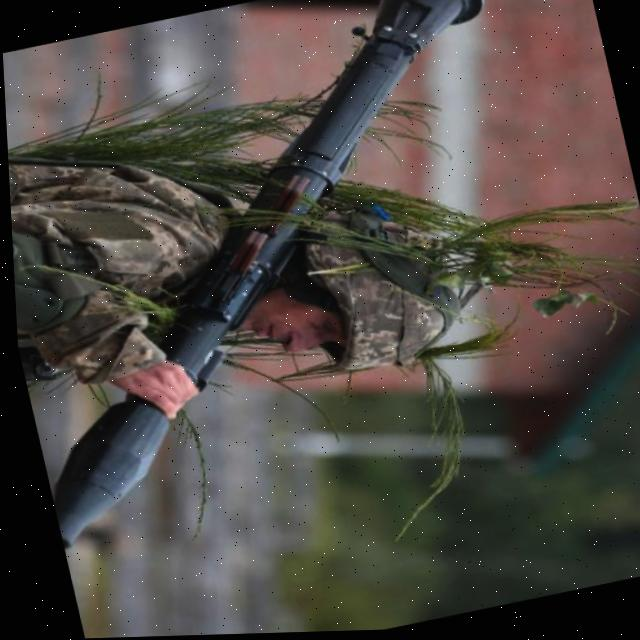rocket: (0, 0, 611, 640)
